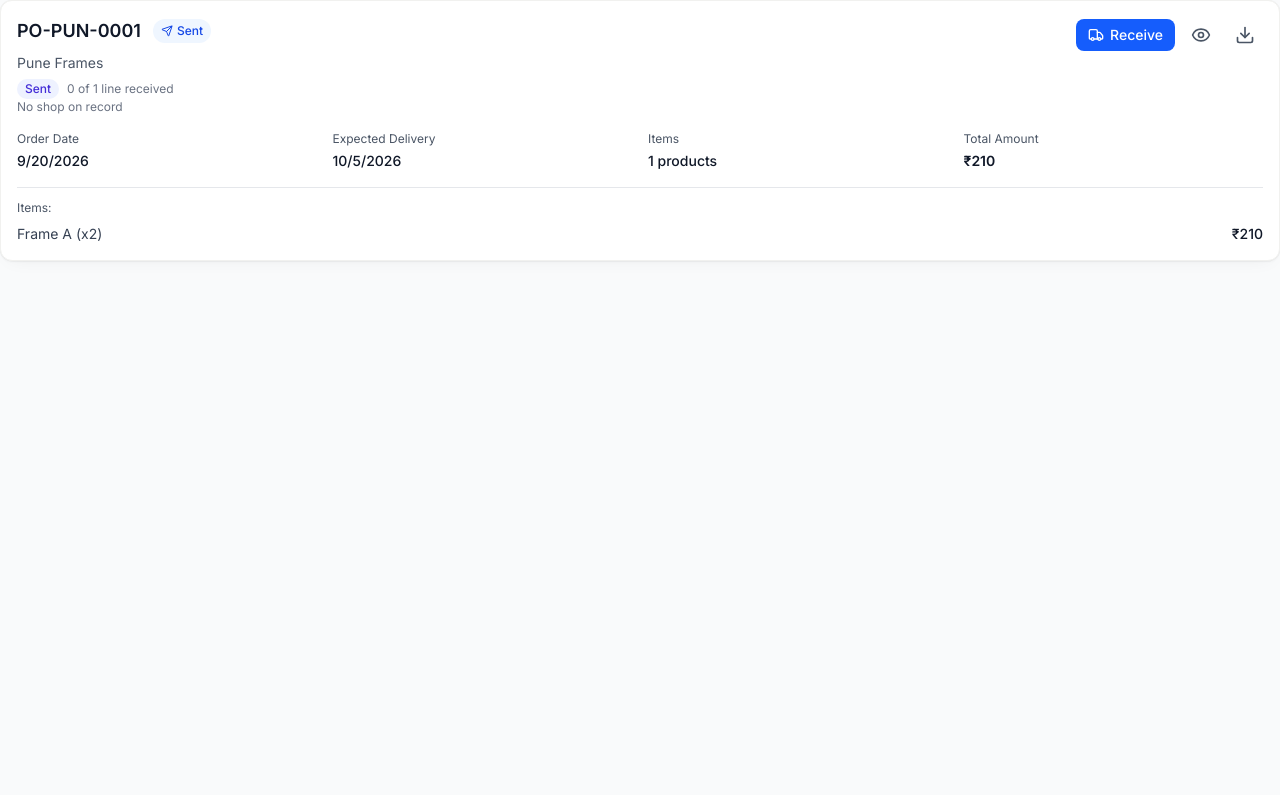
Scenario: Receive from Purchase Orders lands on a receive screen holding the order › admin narrowing the shop to one the order does not deliver to drops the open order
Step 1. Click the button "Receive" → (1126, 35), box top-left (1076, 19), bottom-right (1175, 51)
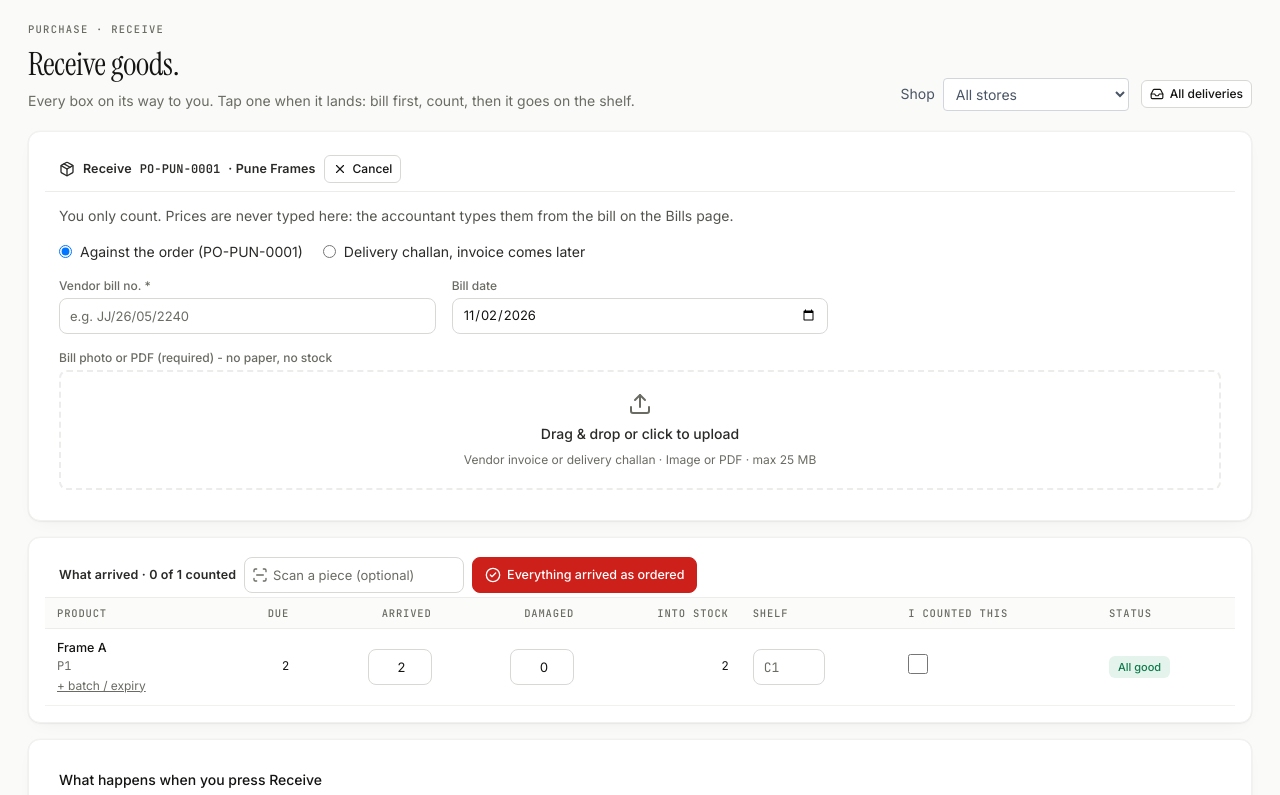
Step 2. Select "Better Vision Dhanbad" in the dropdown named "Purchase shop" → (1036, 94), box top-left (943, 78), bottom-right (1129, 111)
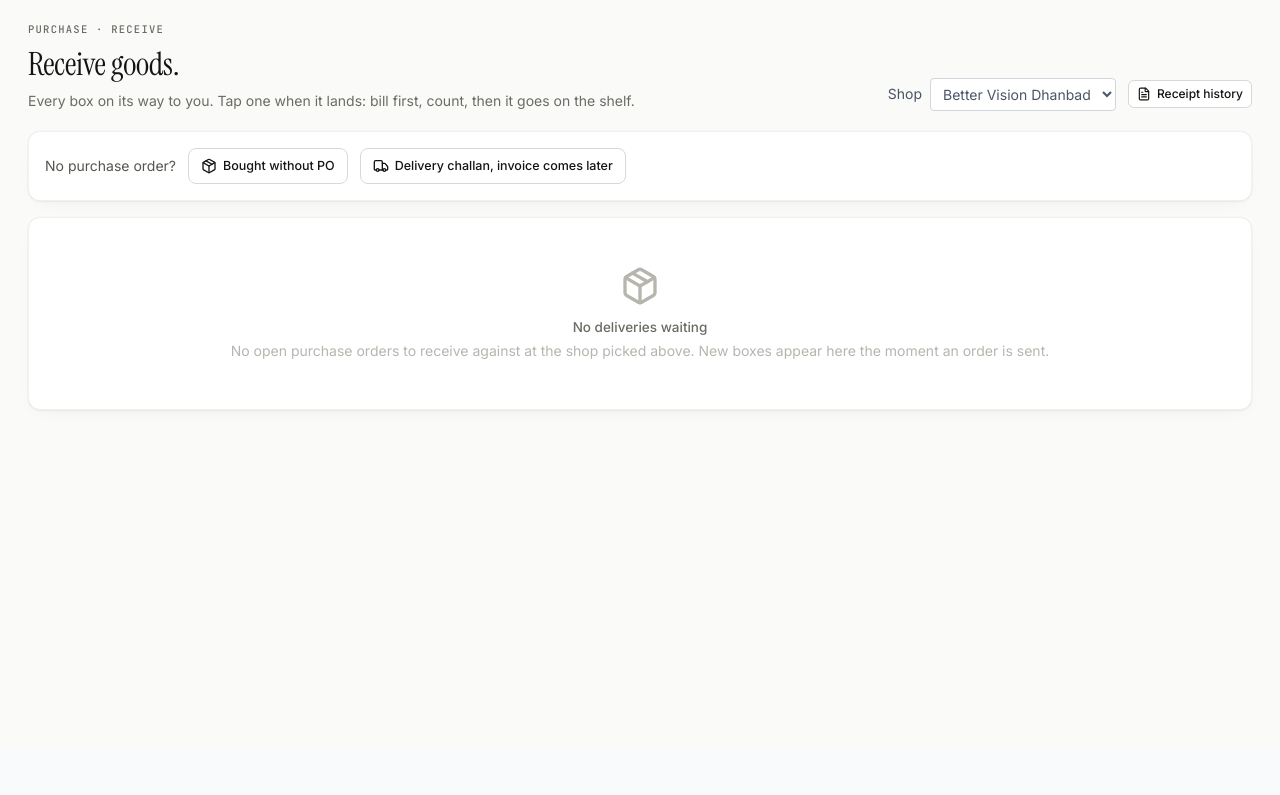
Check: the heading "Receive PO-PUN-0001" is gone
Check: the text "No open purchase orders to receive against at the shop picked above" is shown, box top-left (231, 342), bottom-right (1049, 360)
